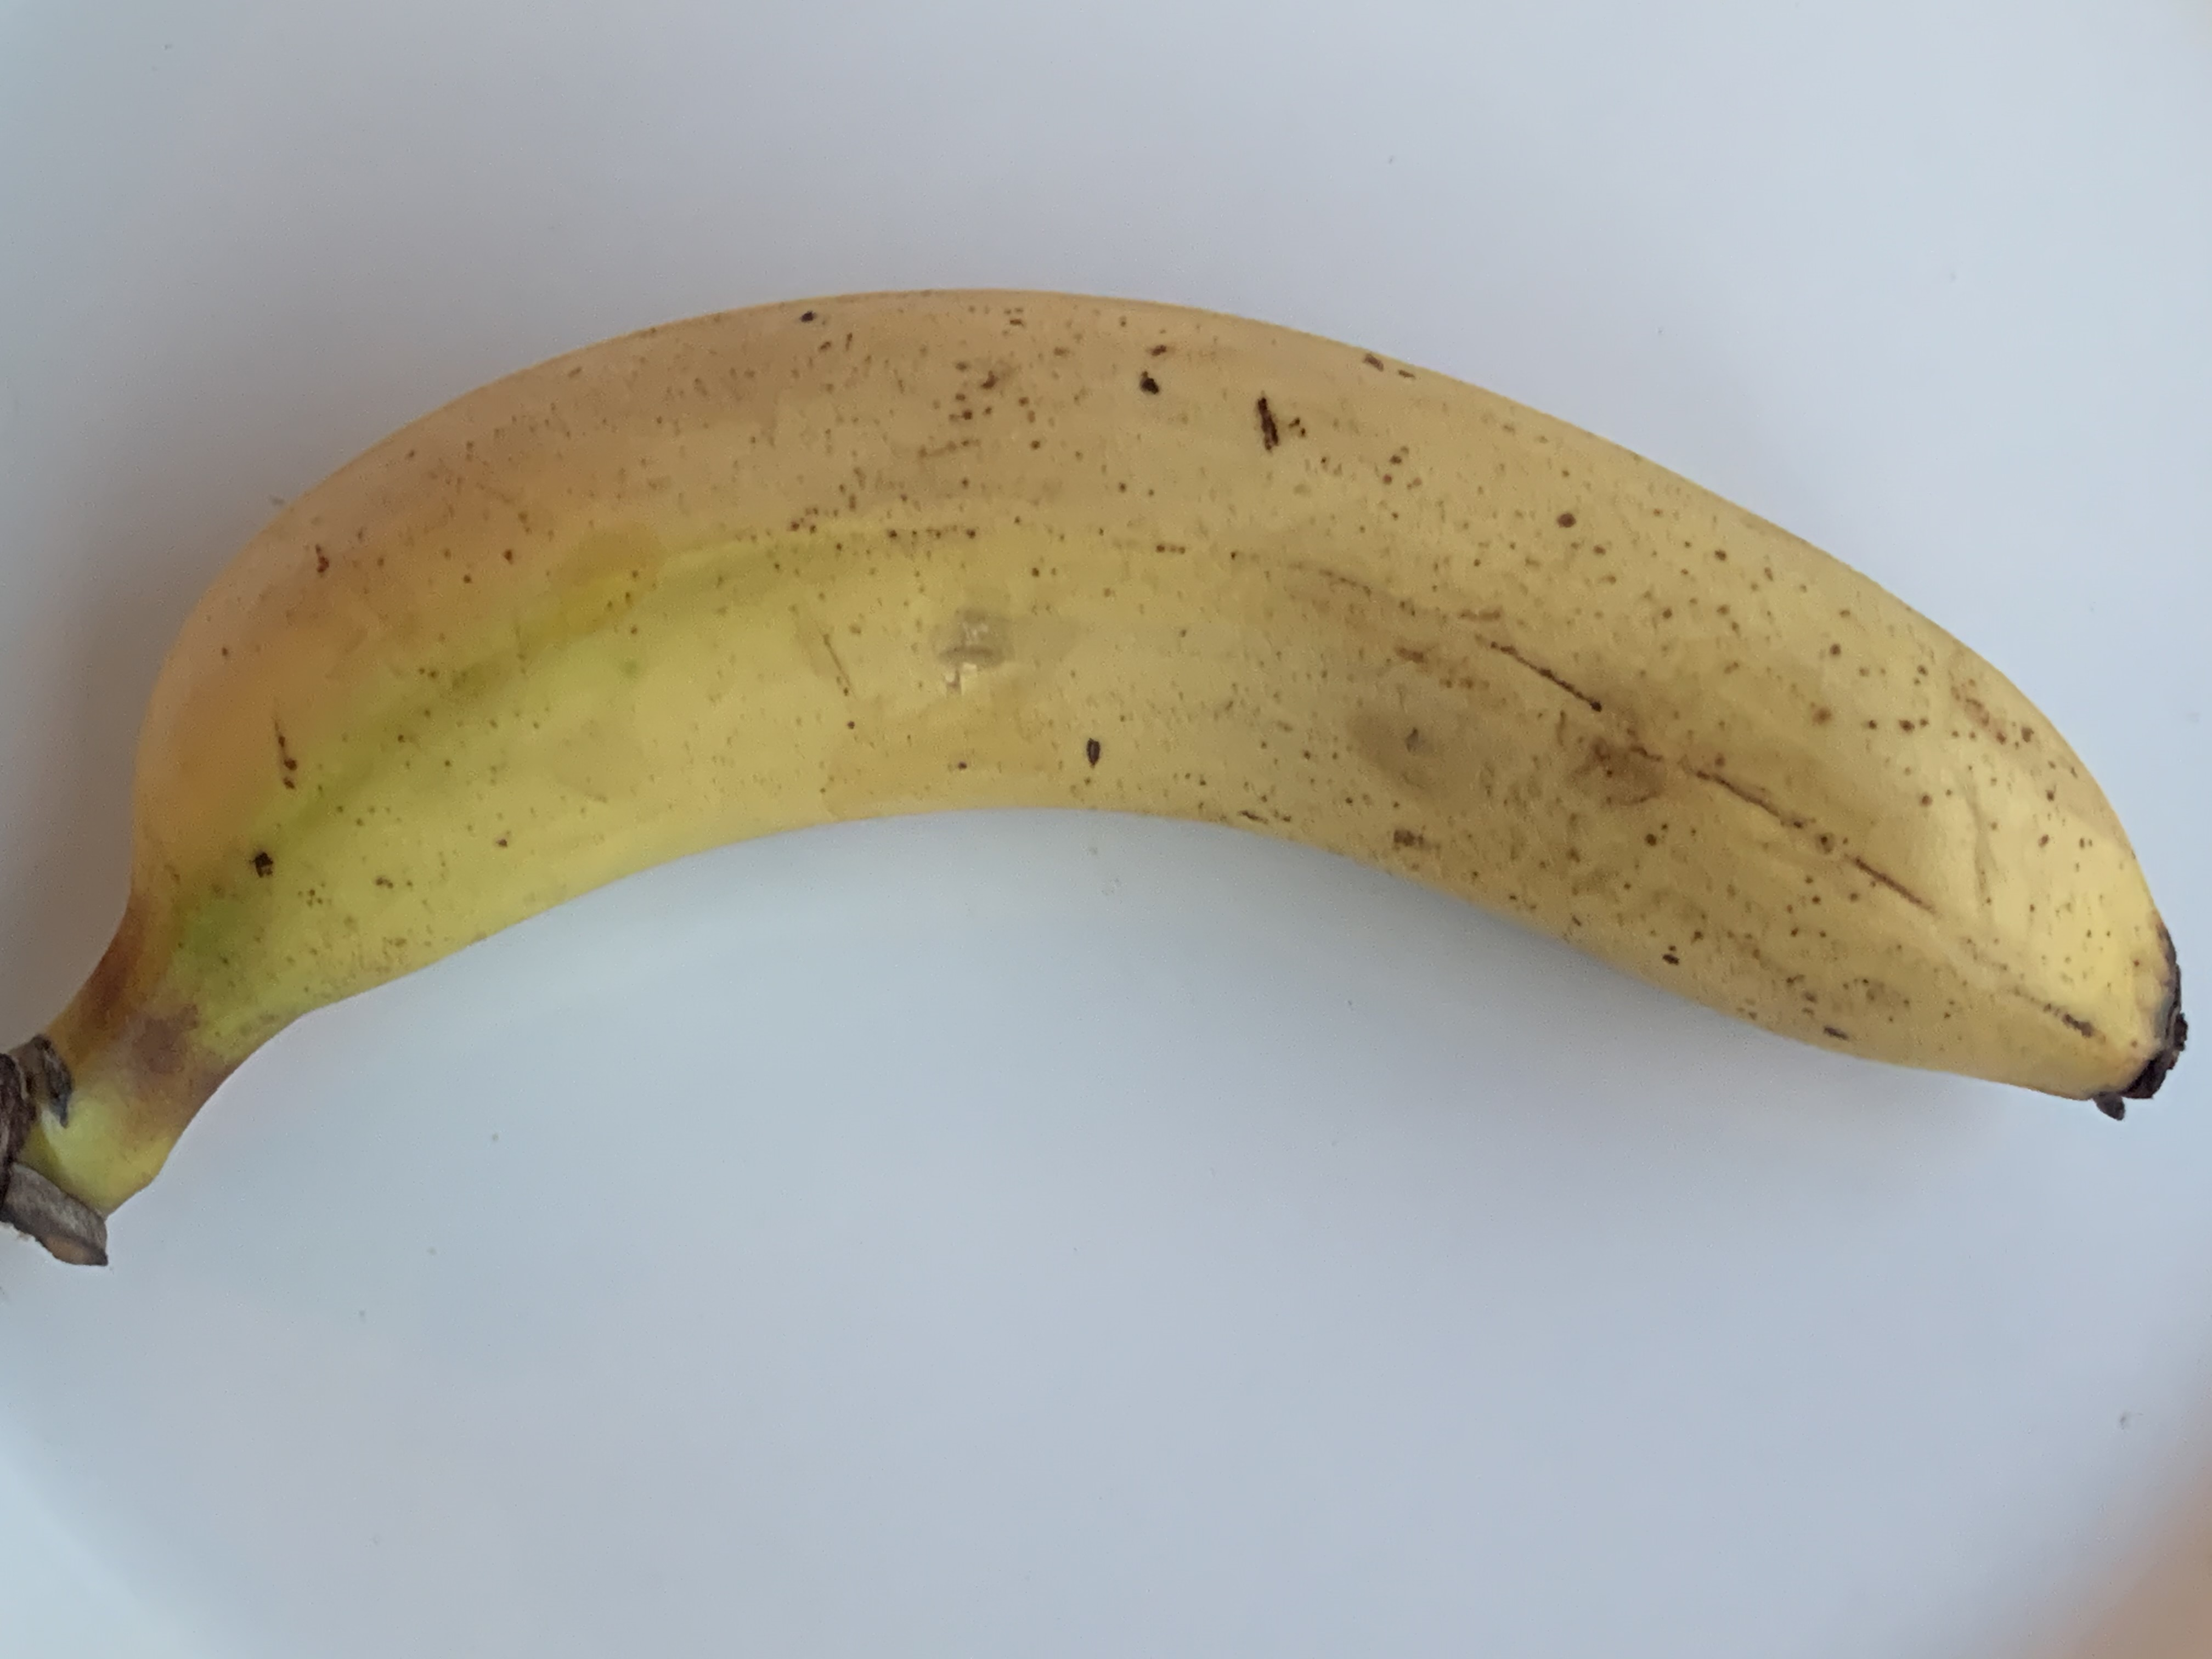banana: (12, 288, 2155, 1195)
